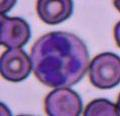N: (30, 30, 88, 87)
